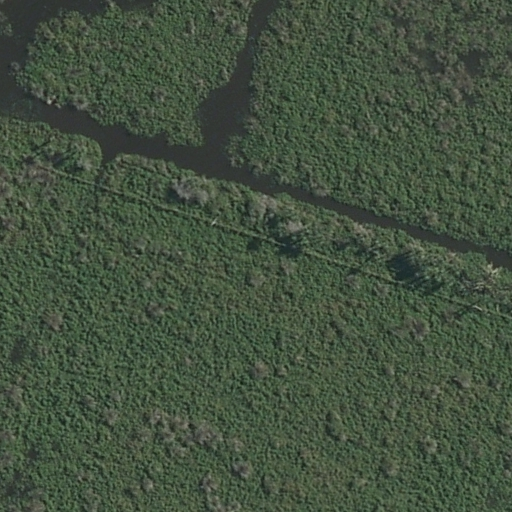DT: (208, 216, 220, 227)
